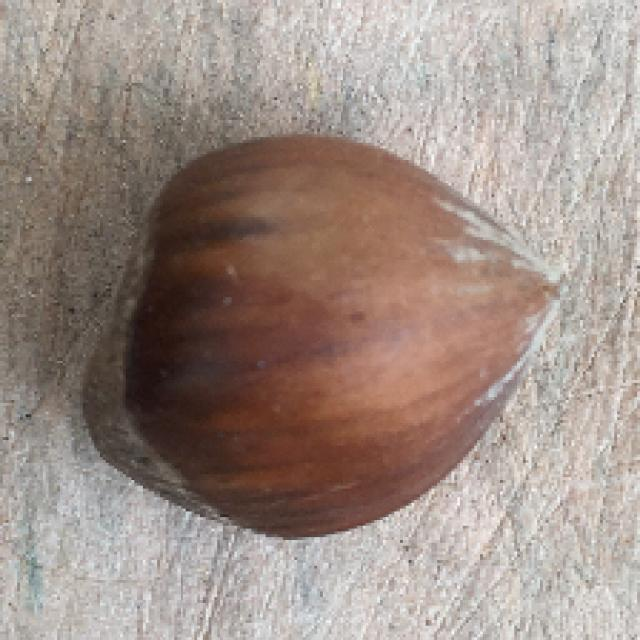damagedHazelnut: (70, 141, 574, 543)
